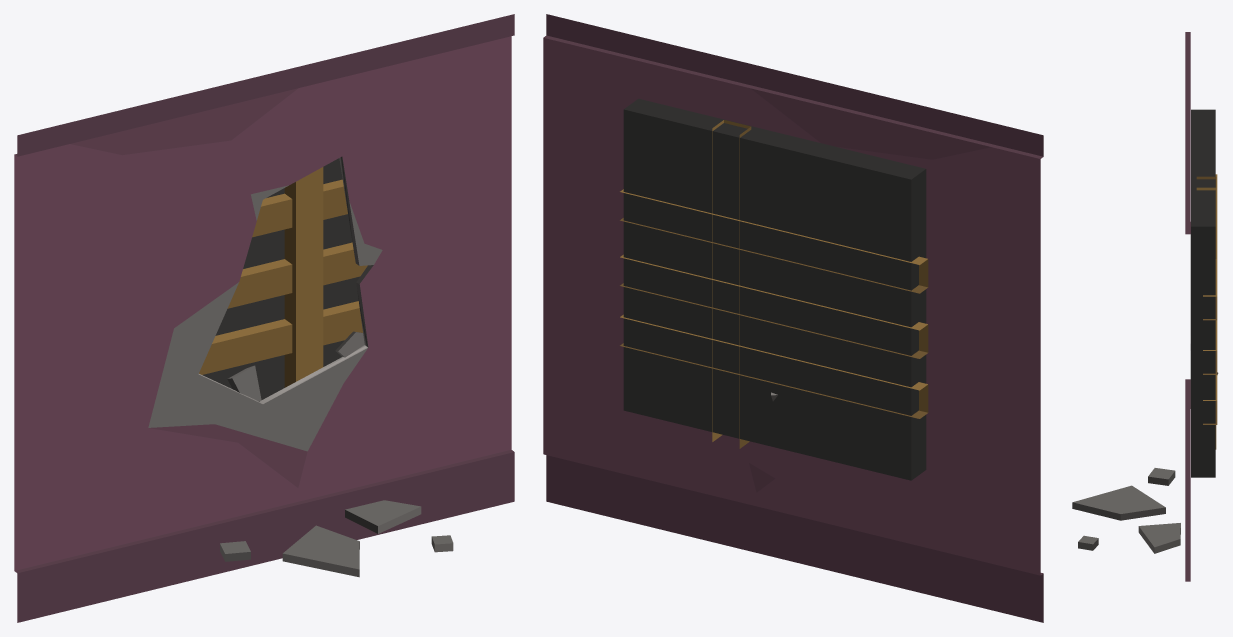
File: AI_Env_Wall_Pink_Hole_Large.fbx
3 views of the same model, side by side, from view 1: azimuth 30°, elevation 25°; view 2: azimuth 150°, elevation 25°; view 3: azimuth 270°, elevation 25° (orthographic). The views are drawn at different scales.
Visible parts, largest first — view 1: AI_Env_Wall_Pink_Hole_Large; view 2: AI_Env_Wall_Pink_Hole_Large; view 3: AI_Env_Wall_Pink_Hole_Large.
Boxes of the visible parts, x1,y1,x2,y2 form: AI_Env_Wall_Pink_Hole_Large: (14,14,514,622); AI_Env_Wall_Pink_Hole_Large: (543,14,1043,622); AI_Env_Wall_Pink_Hole_Large: (1072,32,1218,581).
Size of the model in its own units: 5 by 4.69 by 1.53.
